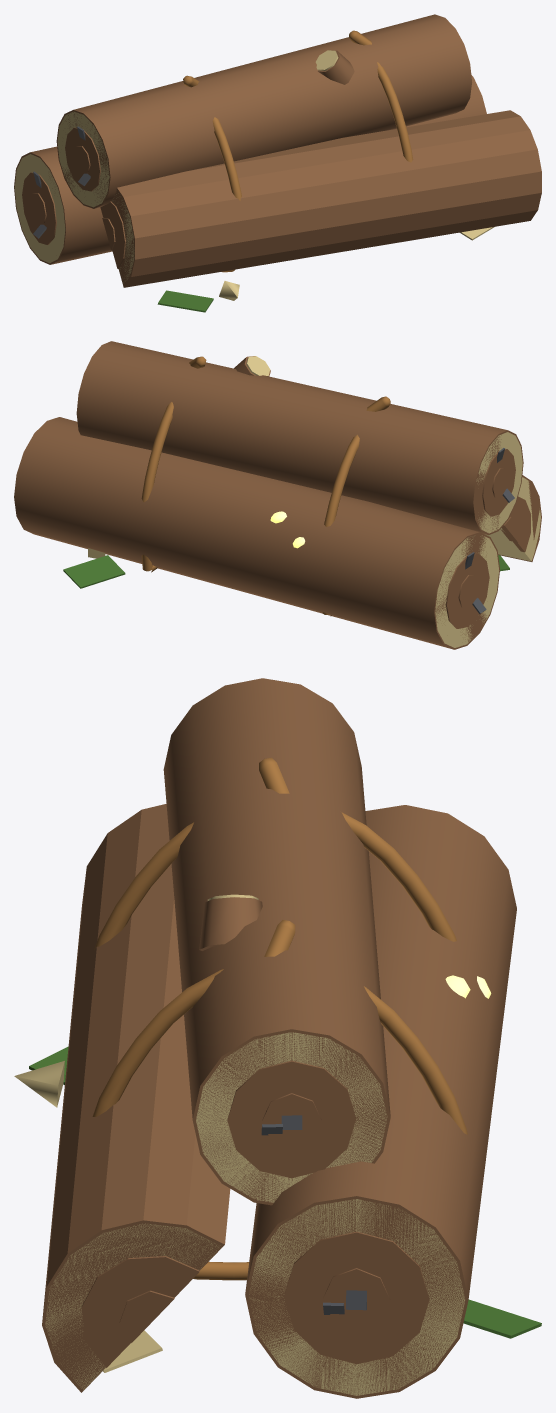
The model's file is drop-wood-logs.glb.
The picture shows the model from 3 angles, top to bottom: view 1: azimuth 30°, elevation 25°; view 2: azimuth 150°, elevation 25°; view 3: azimuth 270°, elevation 25°; orthographic projection. The views are drawn at different scales.
Parts seen in each view (by area): view 1: Mesh_SplitBark, Mesh_Bark (×2), Mesh_EndGrain (×2), Mesh_Ring1 (×2), Mesh_Rope2, Mesh_Rope1, Mesh_Leaf1, Mesh_SplitRing1, Mesh_Ring2 (×2), Mesh_BranchBark, Mesh_SplitCap; view 2: Mesh_Bark (×2), Mesh_EndGrain (×2), Mesh_Ring1 (×2), Mesh_Leaf2, Mesh_Rope2, Mesh_Rope1, Mesh_SplitRing1, Mesh_SplitCap, Mesh_SplitBark, Mesh_SplitFace, Mesh_Ring2; view 3: Mesh_Bark (×2), Mesh_SplitBark, Mesh_EndGrain (×2), Mesh_Ring1 (×2), Mesh_Rope2, Mesh_SplitRing1, Mesh_Rope1, Mesh_SplitCap, Mesh_Ring2 (×2), Mesh_BranchBark, Mesh_Leaf2, Mesh_SplitRing2 (+2 smaller).
Boxes of the visible parts, x1,y1,x2,y2 form: Mesh_SplitBark: (111, 110, 541, 287); Mesh_Bark (×2): (14, 14, 486, 264); Mesh_EndGrain (×2): (14, 111, 109, 263); Mesh_Ring1 (×2): (22, 127, 100, 244); Mesh_Rope2: (377, 62, 413, 162); Mesh_Rope1: (212, 117, 241, 272); Mesh_Leaf1: (157, 290, 213, 312); Mesh_SplitRing1: (100, 201, 125, 268); Mesh_Ring2 (×2): (30, 146, 90, 224); Mesh_BranchBark: (317, 50, 354, 84); Mesh_SplitCap: (112, 193, 134, 283); Mesh_Bark (×2): (14, 341, 523, 649); Mesh_EndGrain (×2): (435, 432, 522, 647); Mesh_Ring1 (×2): (446, 449, 515, 628); Mesh_Leaf2: (63, 555, 125, 588); Mesh_Rope2: (141, 402, 173, 572); Mesh_Rope1: (322, 434, 359, 616); Mesh_SplitRing1: (501, 496, 530, 552); Mesh_SplitCap: (514, 477, 540, 561); Mesh_SplitBark: (498, 475, 541, 561); Mesh_SplitFace: (485, 528, 526, 559); Mesh_Ring2: (458, 575, 479, 607); Mesh_Bark (×2): (163, 678, 516, 1398); Mesh_SplitBark: (42, 804, 230, 1392); Mesh_EndGrain (×2): (196, 1032, 464, 1395); Mesh_Ring1 (×2): (227, 1060, 429, 1364); Mesh_Rope2: (92, 969, 467, 1280); Mesh_SplitRing1: (81, 1256, 199, 1367); Mesh_Rope1: (94, 812, 456, 949); Mesh_SplitCap: (45, 1223, 221, 1390); Mesh_Ring2 (×2): (262, 1093, 390, 1329); Mesh_BranchBark: (199, 897, 262, 950); Mesh_Leaf2: (463, 1299, 541, 1338); Mesh_SplitRing2: (119, 1290, 174, 1342).
Size of the model in its own units: 0.607 by 0.2486 by 0.3304.
Materials: 2 (2 with a texture image).
